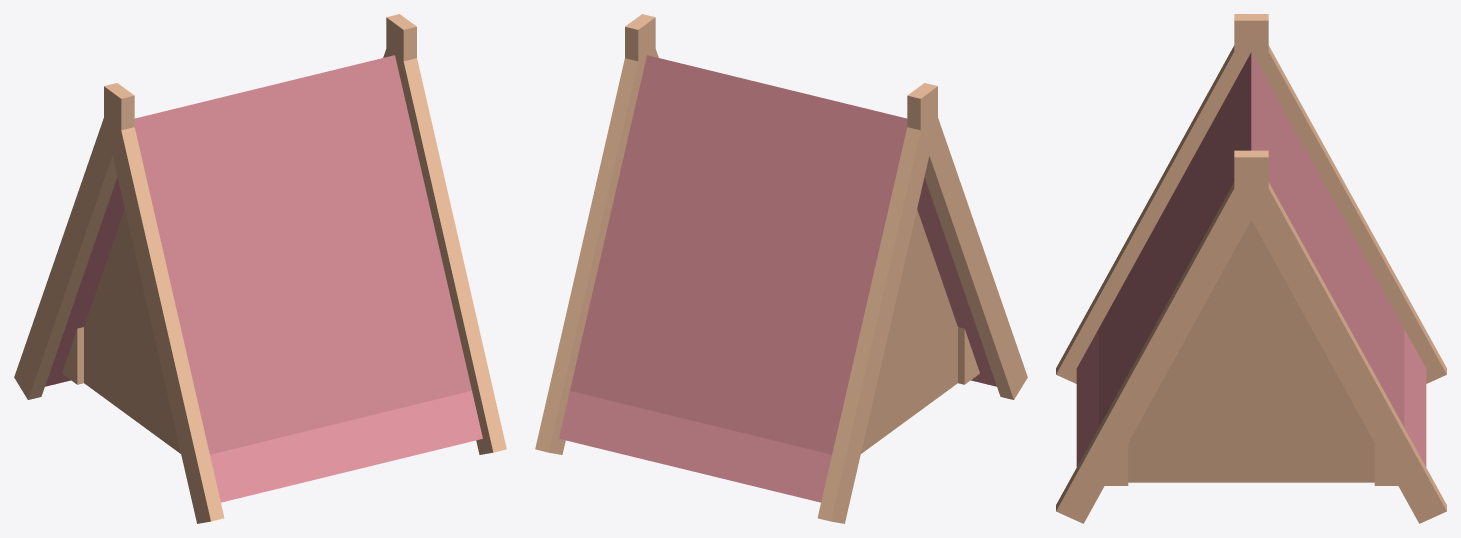
File: roofHighGableDetail.glb
The picture shows the model from 3 angles, left to right: view 1: azimuth 30°, elevation 25°; view 2: azimuth 150°, elevation 25°; view 3: azimuth 270°, elevation 25°; orthographic projection.
Parts seen in each view (by area): view 1: roofHighGableDetail; view 2: roofHighGableDetail; view 3: roofHighGableDetail.
Part boxes in pixels (x1,y1,x2,y2): roofHighGableDetail: [14, 14, 506, 523]; roofHighGableDetail: [535, 14, 1027, 523]; roofHighGableDetail: [1056, 14, 1446, 523].
Size of the model in its own units: 1.1 by 1.31 by 1.27.
